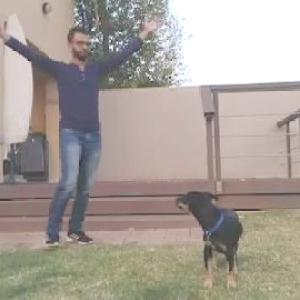takeoff: (1, 19, 162, 260)
